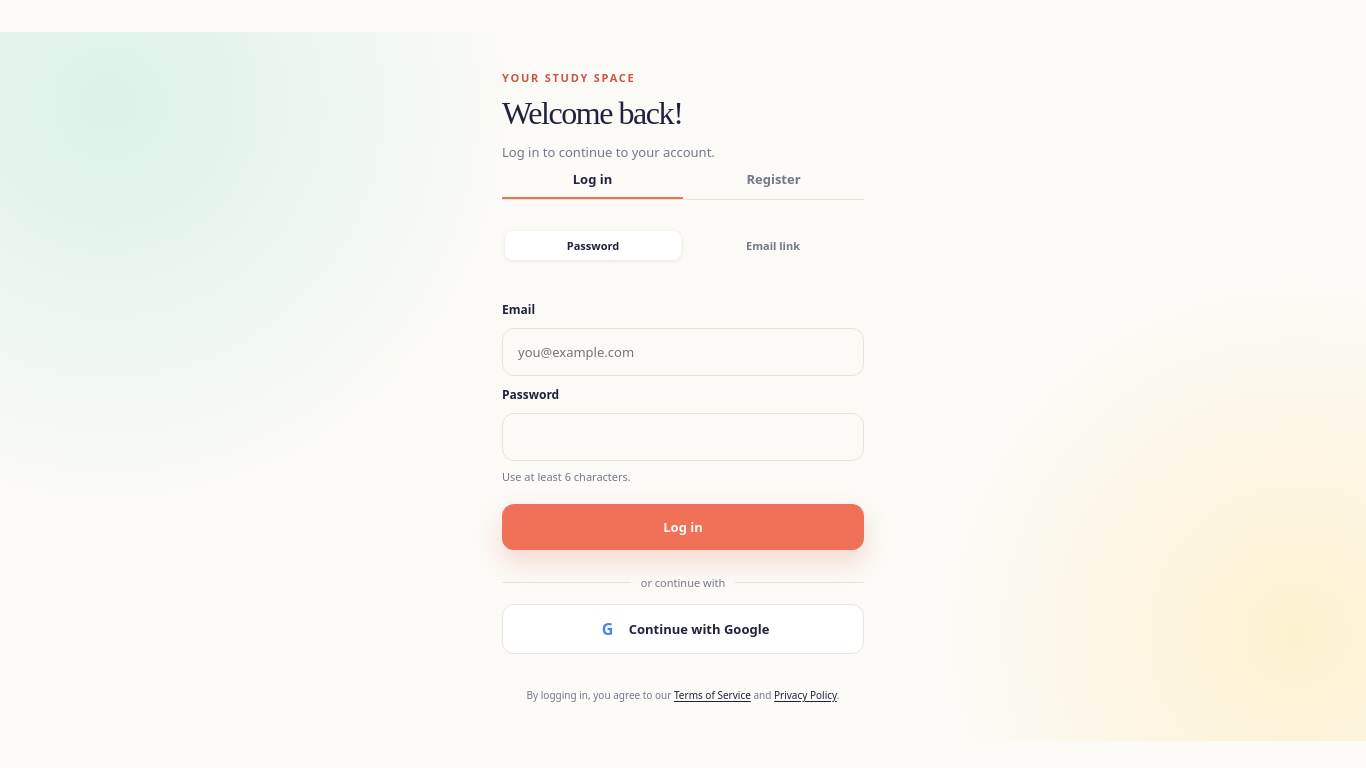
Test case: surfaces a rejected sign-in without navigating
In the field labelled "Email": [683, 352] box [502,328,864,376], type "student@example.com"
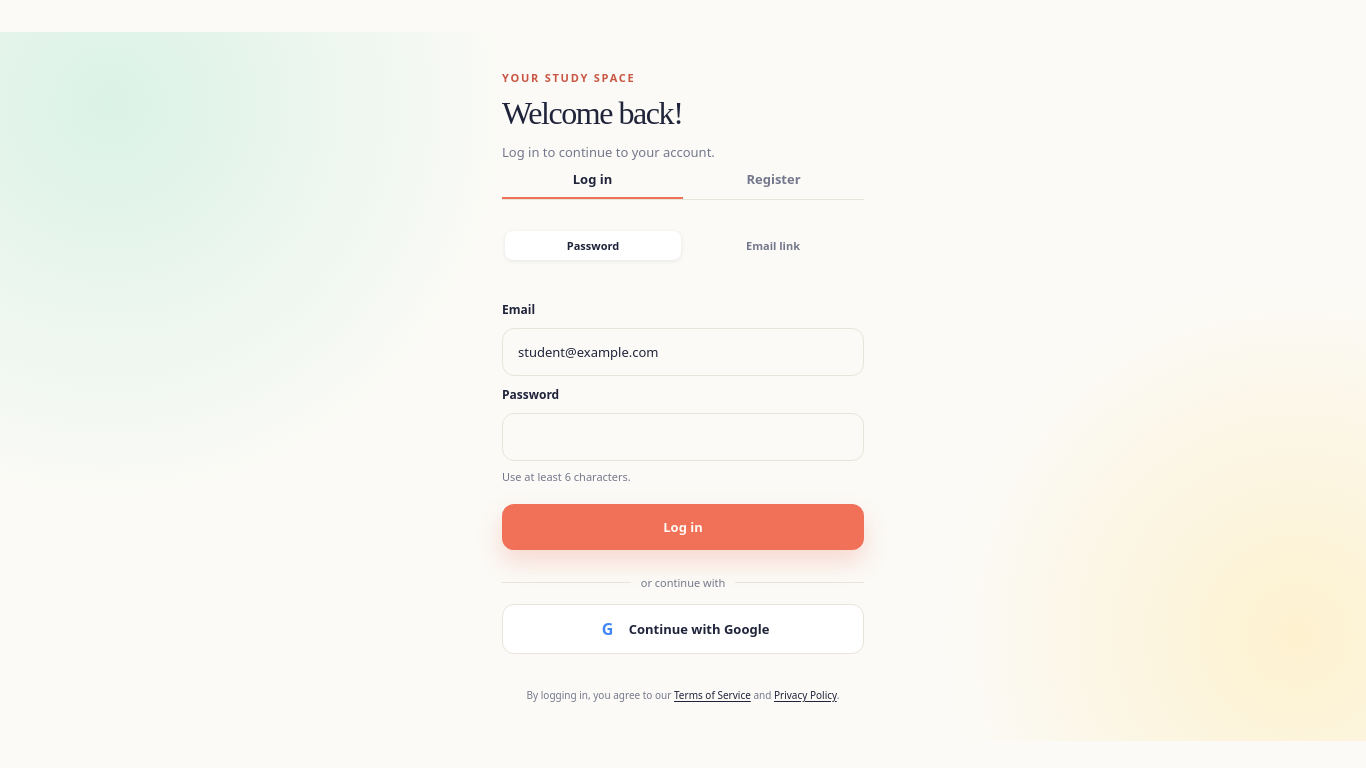
In the password field labelled "Password": [683, 437] box [502,413,864,461], type "wrong-password"
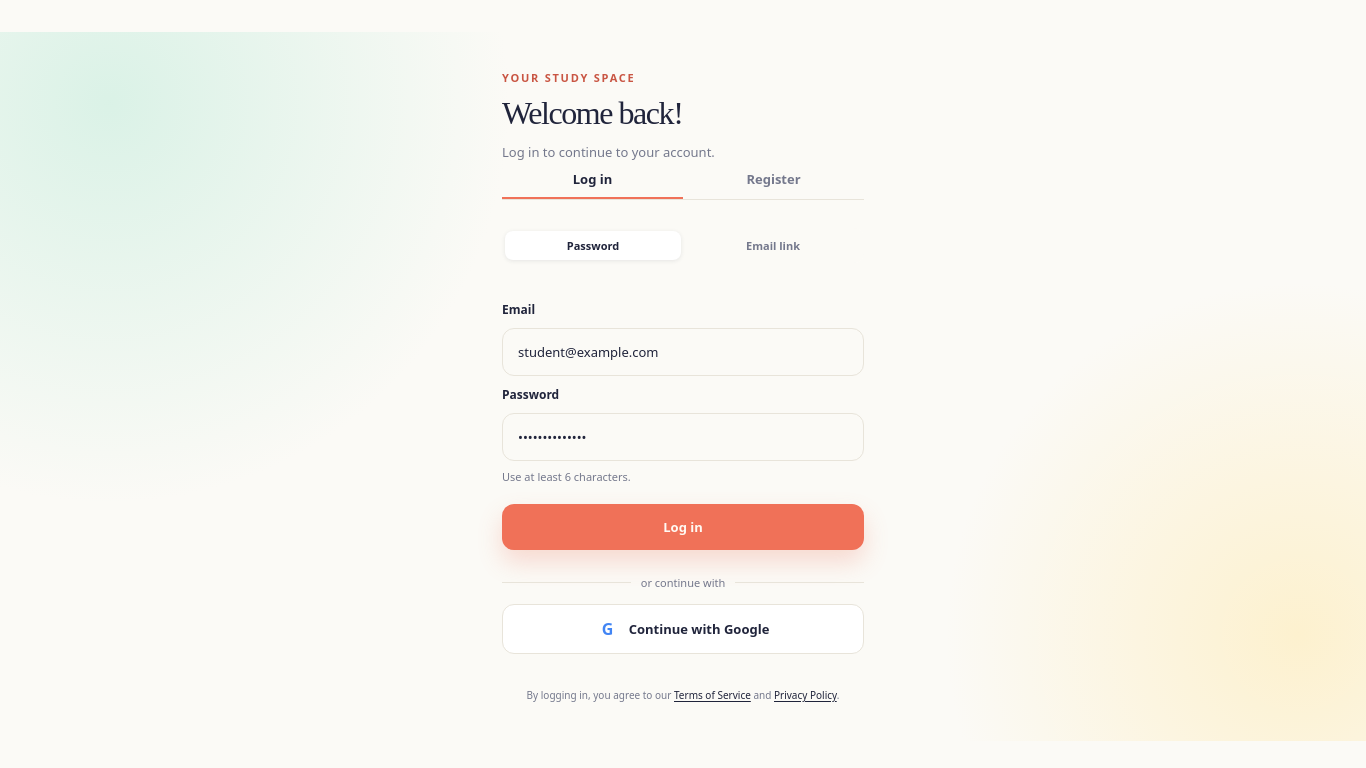
Click the button "Log in": [683, 527] box [502,504,864,550]
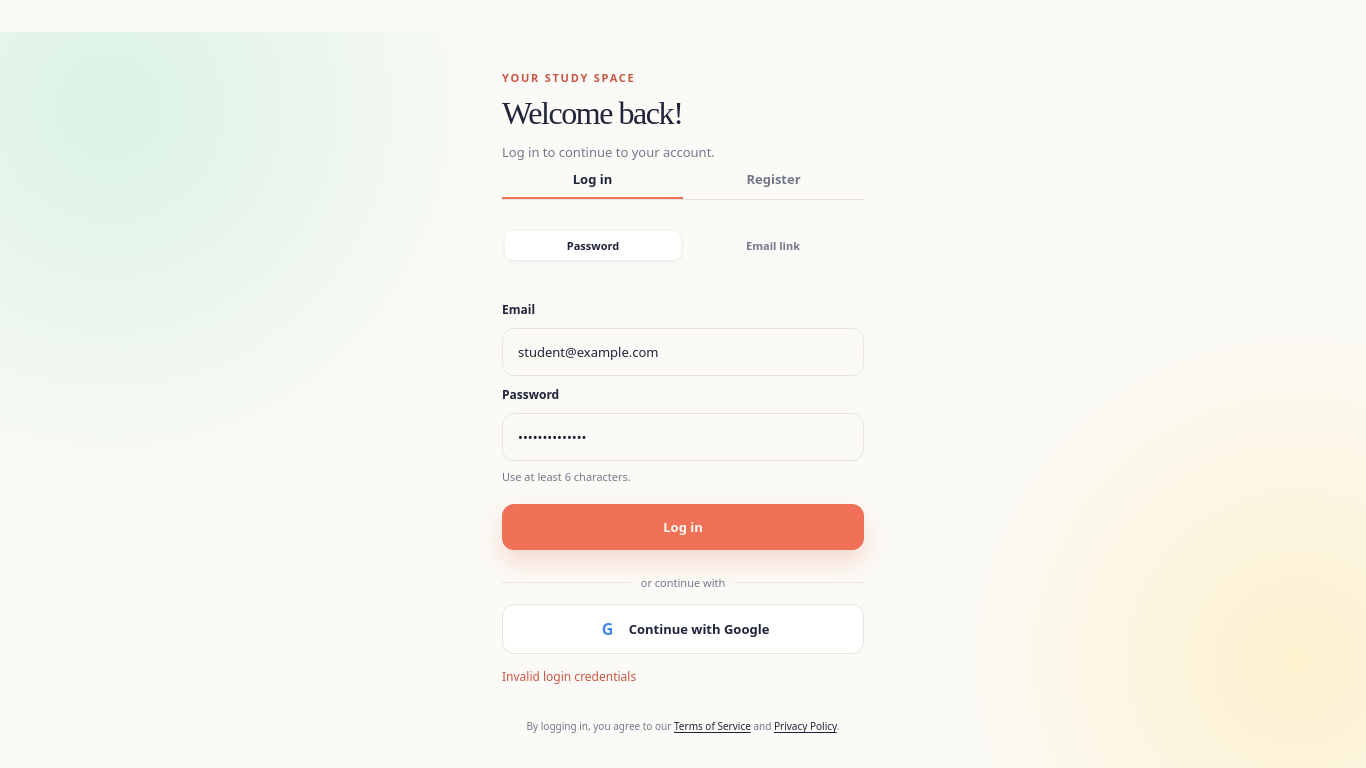
expect the message reads "Invalid login credentials": met, box [502,668,636,685]
